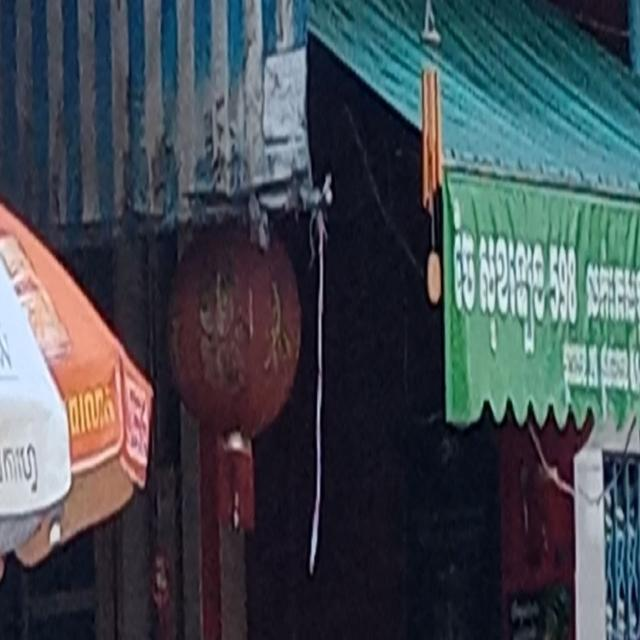Yolov11kh: (448, 189, 590, 383), (2, 431, 47, 511)
